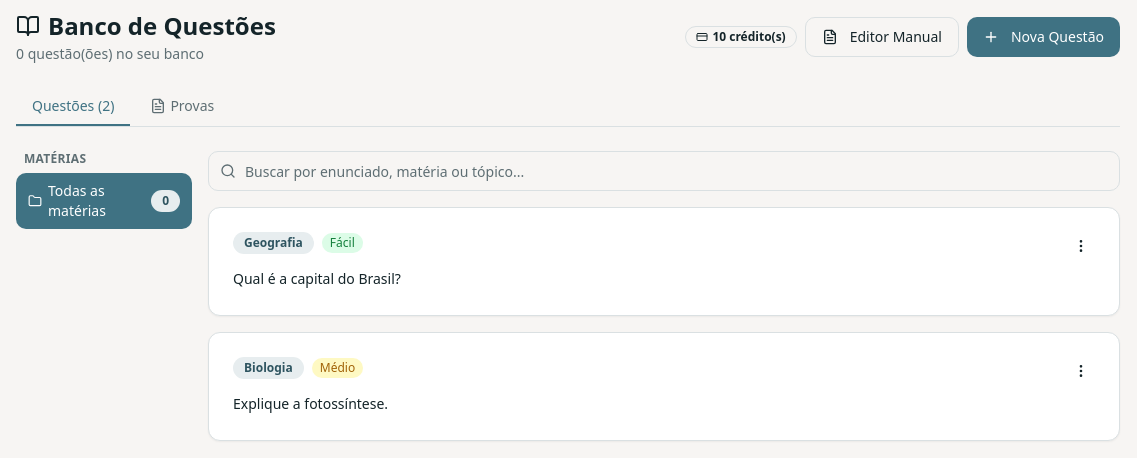
Test: QuestionBankPage › search filters questions by text match
In the field with placeholder "Buscar por enunciado, matéria ou tópico...": (664, 171) [208,151,1120,191], type "fotossíntese"
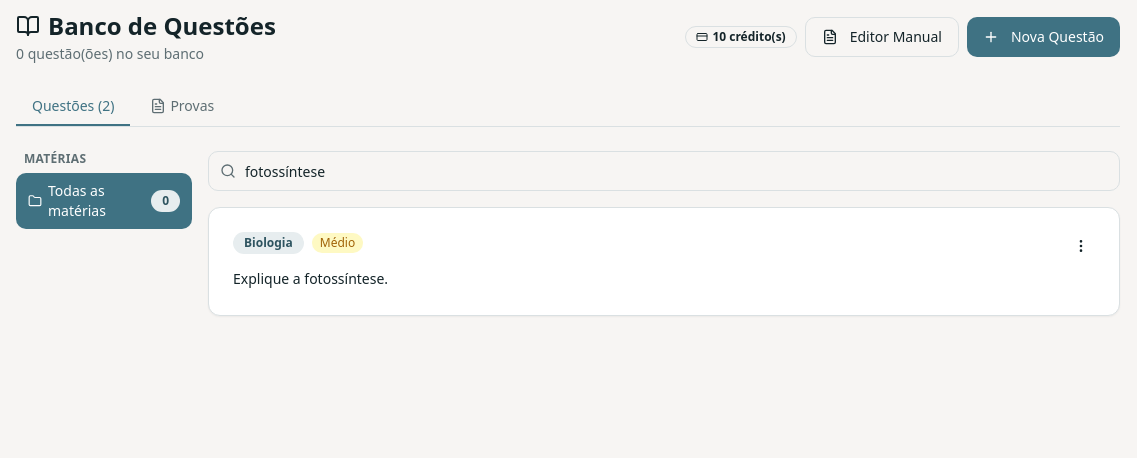
Expected: the text "Explique a fotossíntese." is shown, [233,269,388,288]
Expected: the text "capital do Brasil" is gone
